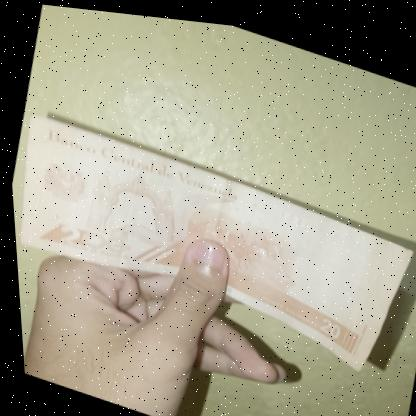vef_back: (6, 110, 416, 377)
